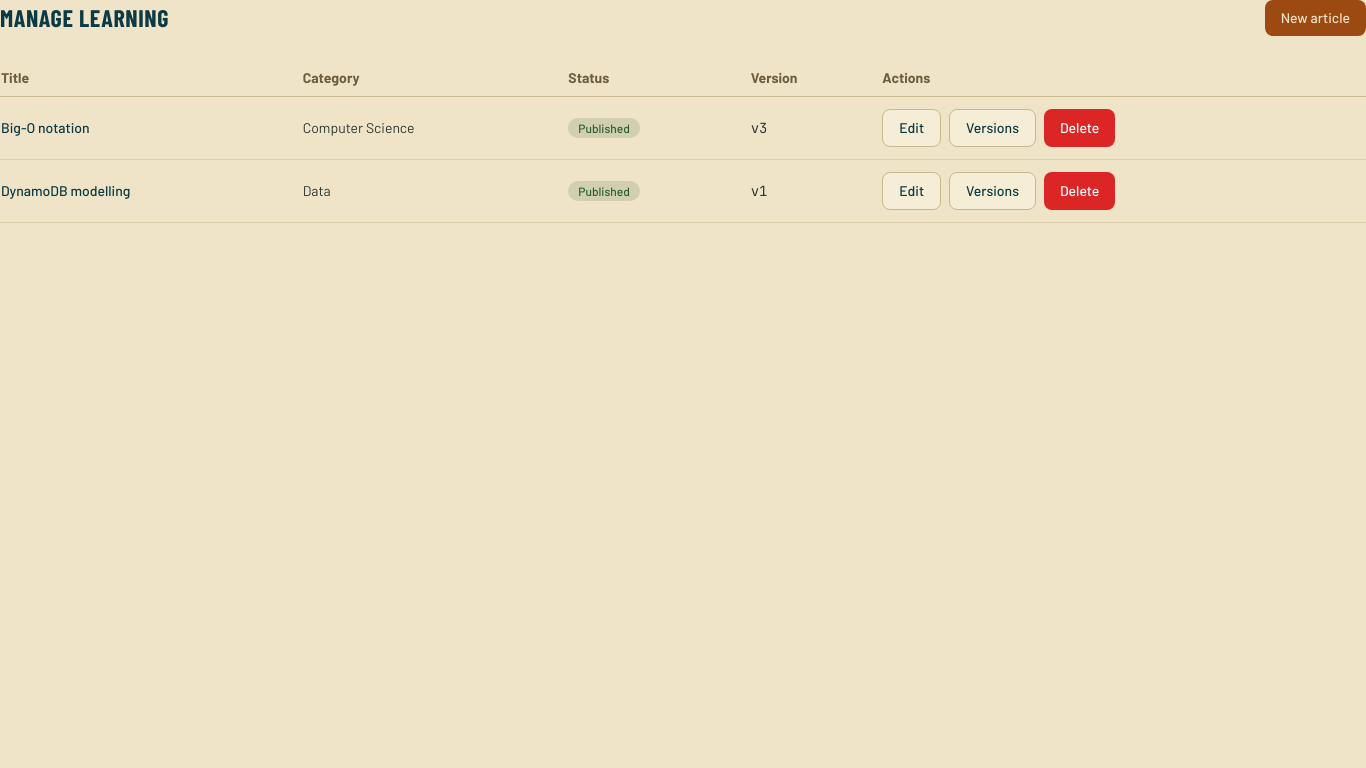
Test: AdminLearning › deletes an article after confirmation and closes its history
Expected: the text "Big-O notation" is shown, [0,96,302,160]
Click the button with aria-label "Versions of Big-O notation" at [993, 128], box [949,109,1036,147]
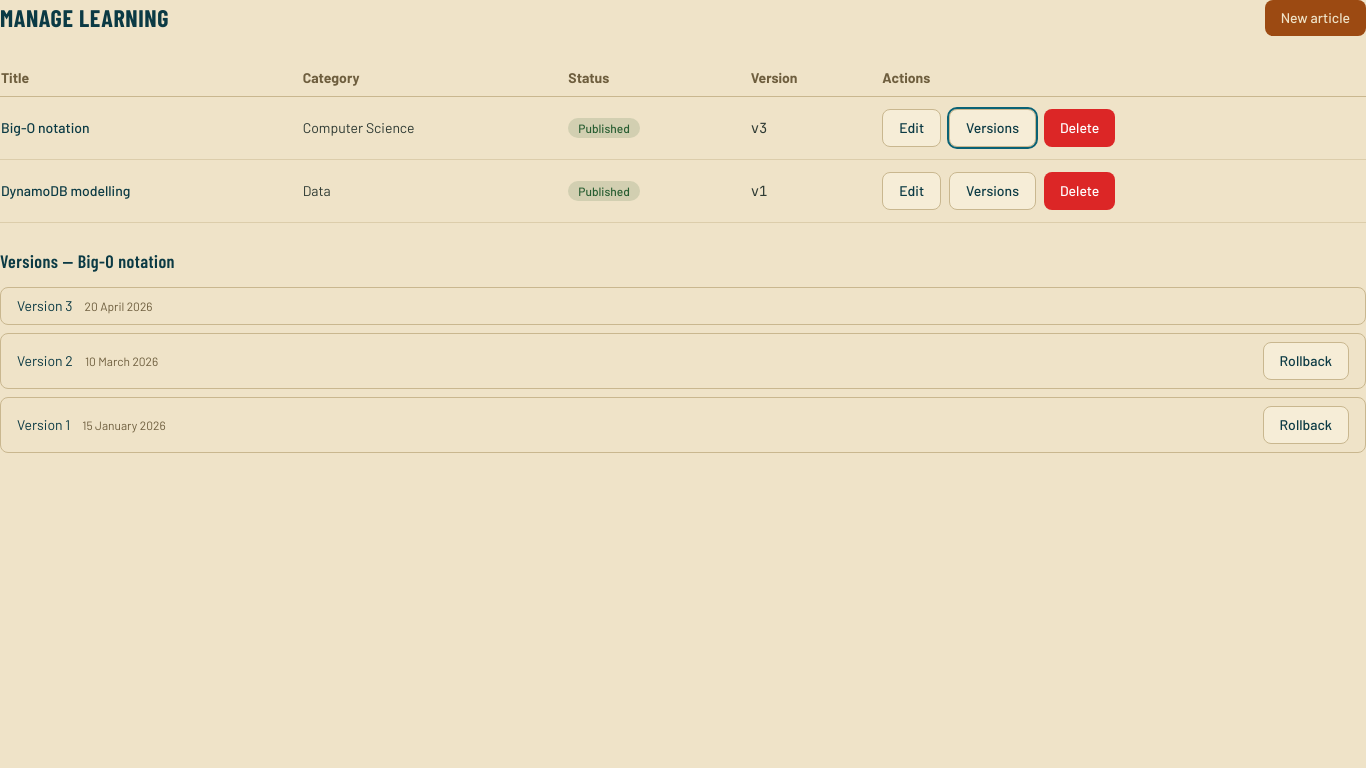
Expected: the text "Version 1" is shown, [17,416,70,433]
Click the button with aria-label "Delete Big-O notation" at [1080, 128], box [1044,109,1115,147]
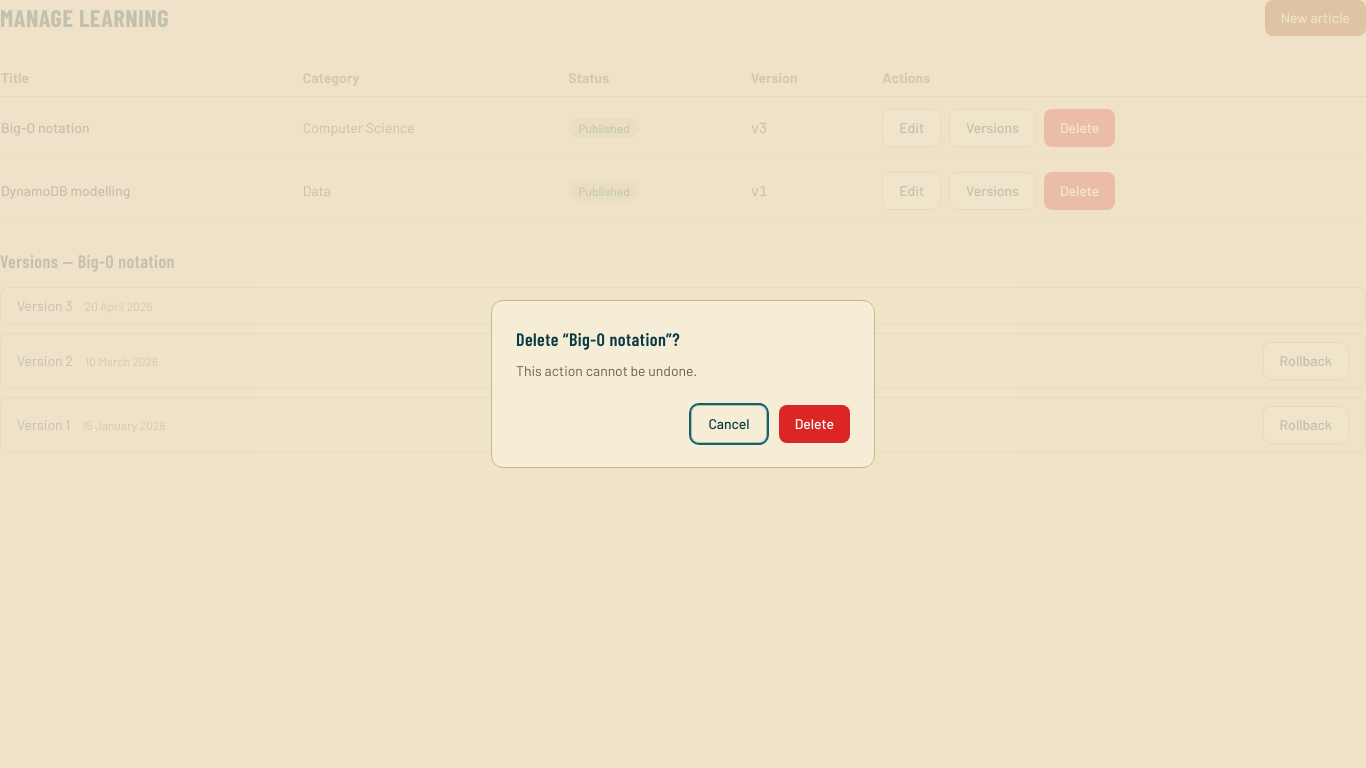
Click the button "Delete" at [814, 424], box [779,405,850,443]
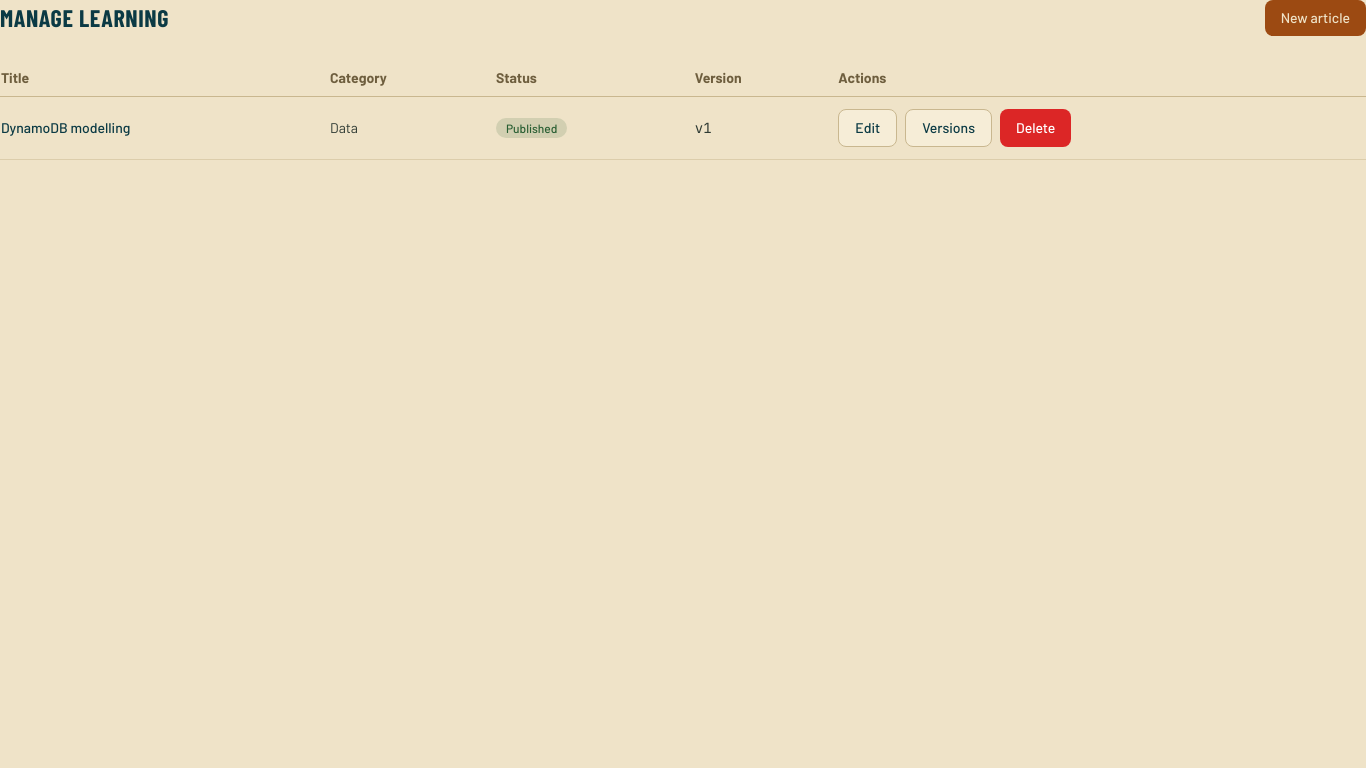
Expected: the text "Big-O notation" is gone
Expected: the text "Version 1" is gone
